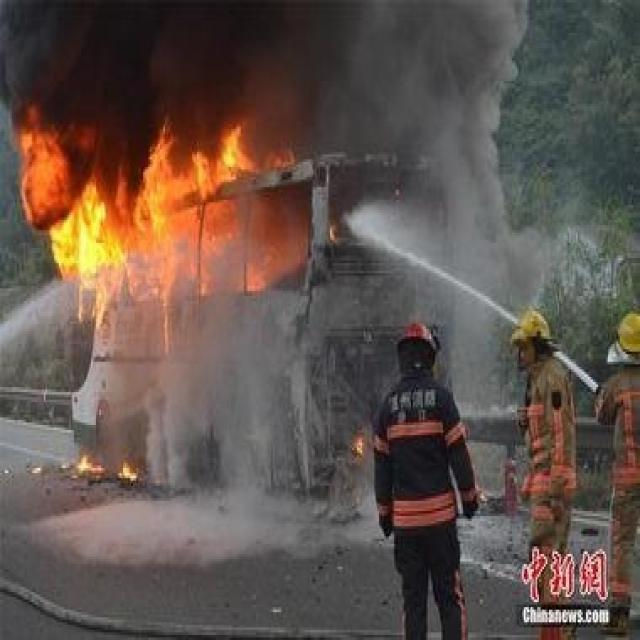Fire: (18, 126, 298, 356), (116, 461, 140, 484), (76, 455, 104, 473)
Smoke: (330, 125, 570, 396), (2, 2, 570, 116), (105, 360, 318, 467)
